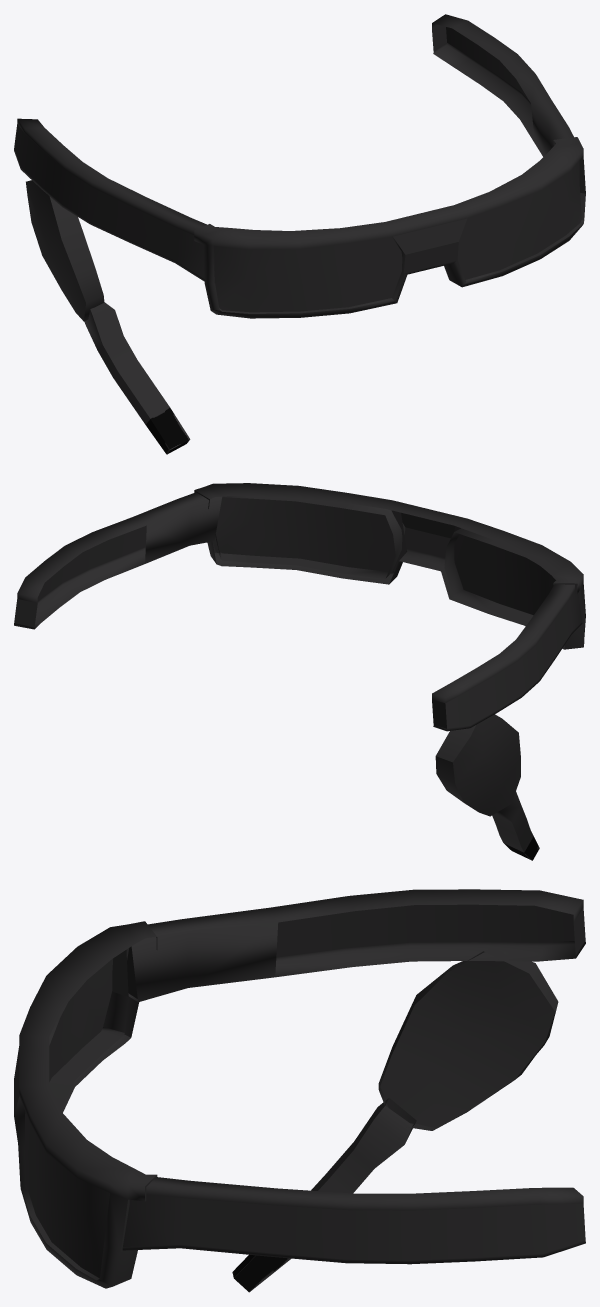
Rendered from 15特工耳机.fbx.
The picture shows the model from 3 angles, top to bottom: view 1: azimuth 30°, elevation 25°; view 2: azimuth 150°, elevation 25°; view 3: azimuth 270°, elevation 25°; orthographic projection. The views are drawn at different scales.
Parts seen in each view (by area): view 1: 15特工耳机; view 2: 15特工耳机; view 3: 15特工耳机.
Part boxes in pixels (x1,y1,x2,y2): 15特工耳机: (14, 14, 585, 454); 15特工耳机: (14, 483, 585, 860); 15特工耳机: (14, 889, 585, 1292).
Bounding box in the file's own units: 0.4037 × 0.2183 × 0.3068.
